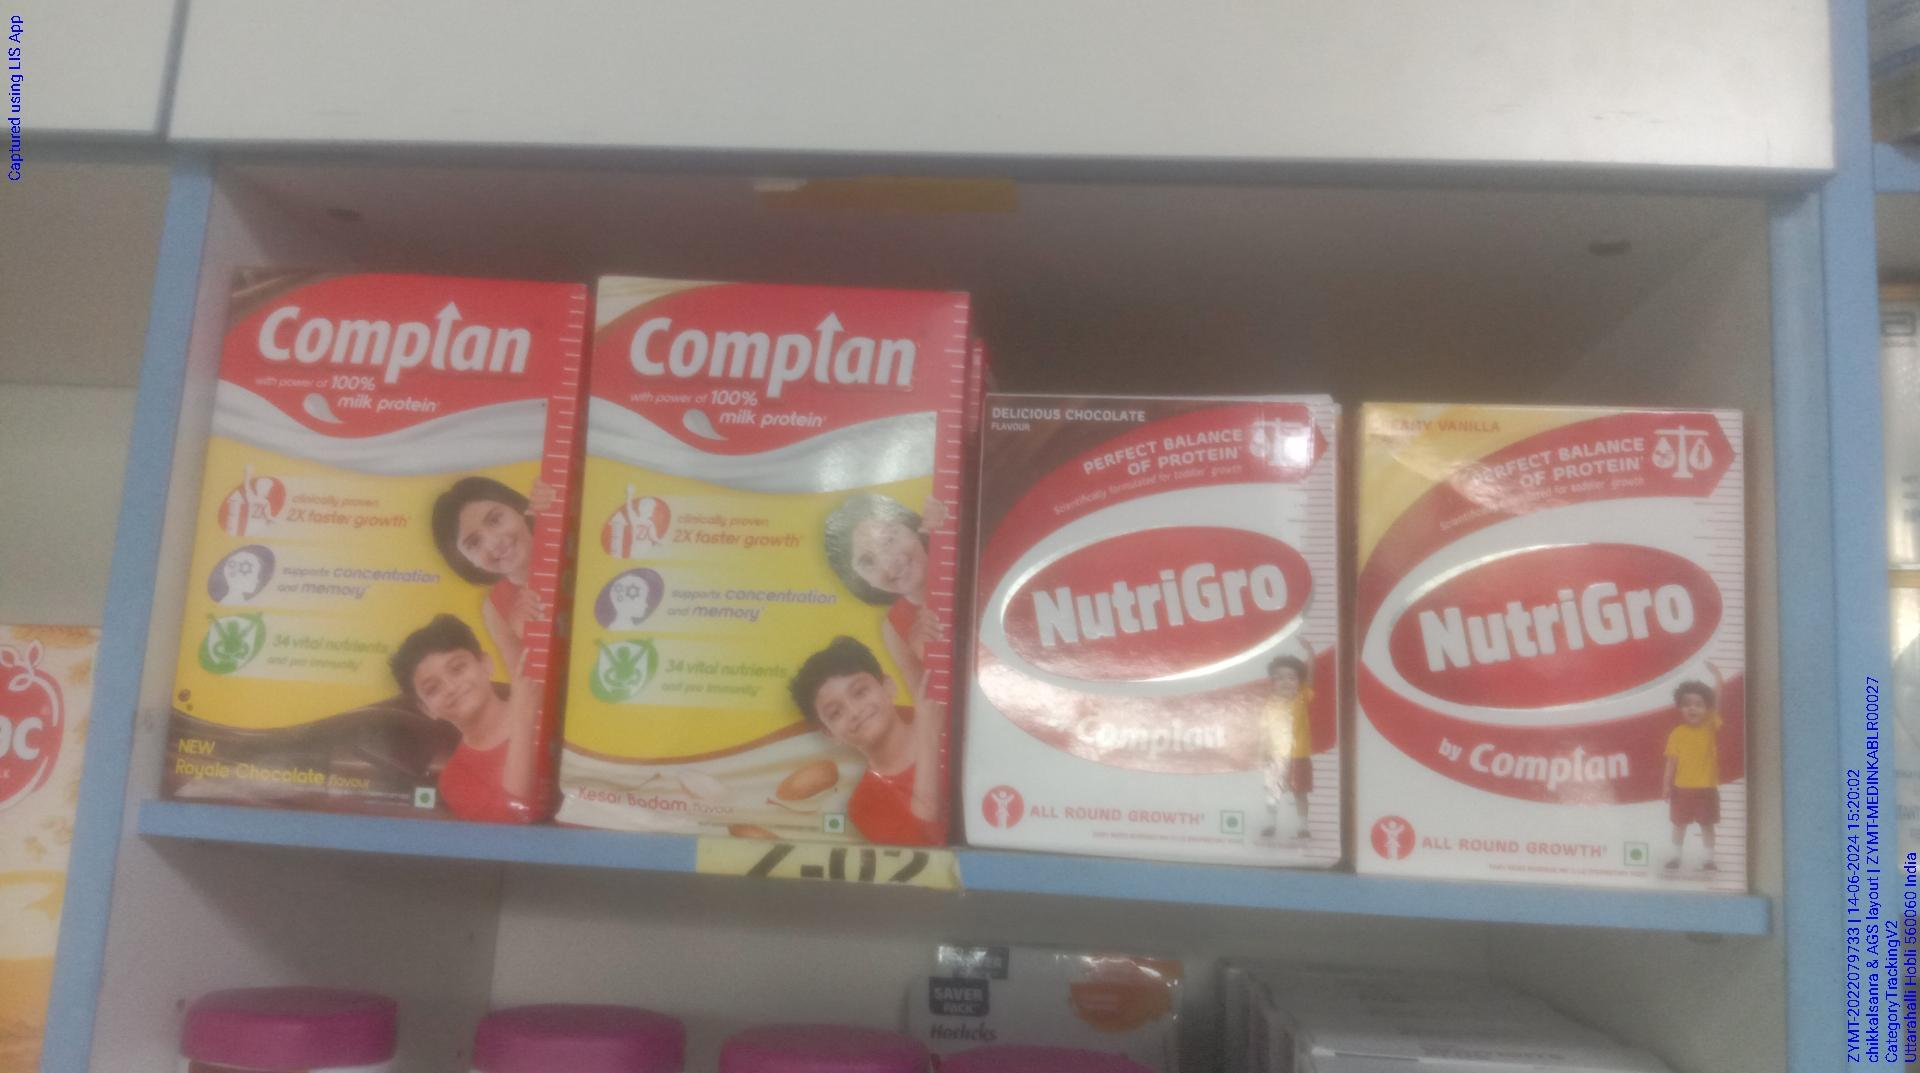COMPLAN_CHOCOLATE_500_GMS_PACK: (196, 273, 560, 828)
COMPLAN_KESAR_BADAM_500_GMS_PACK: (568, 289, 949, 844)
